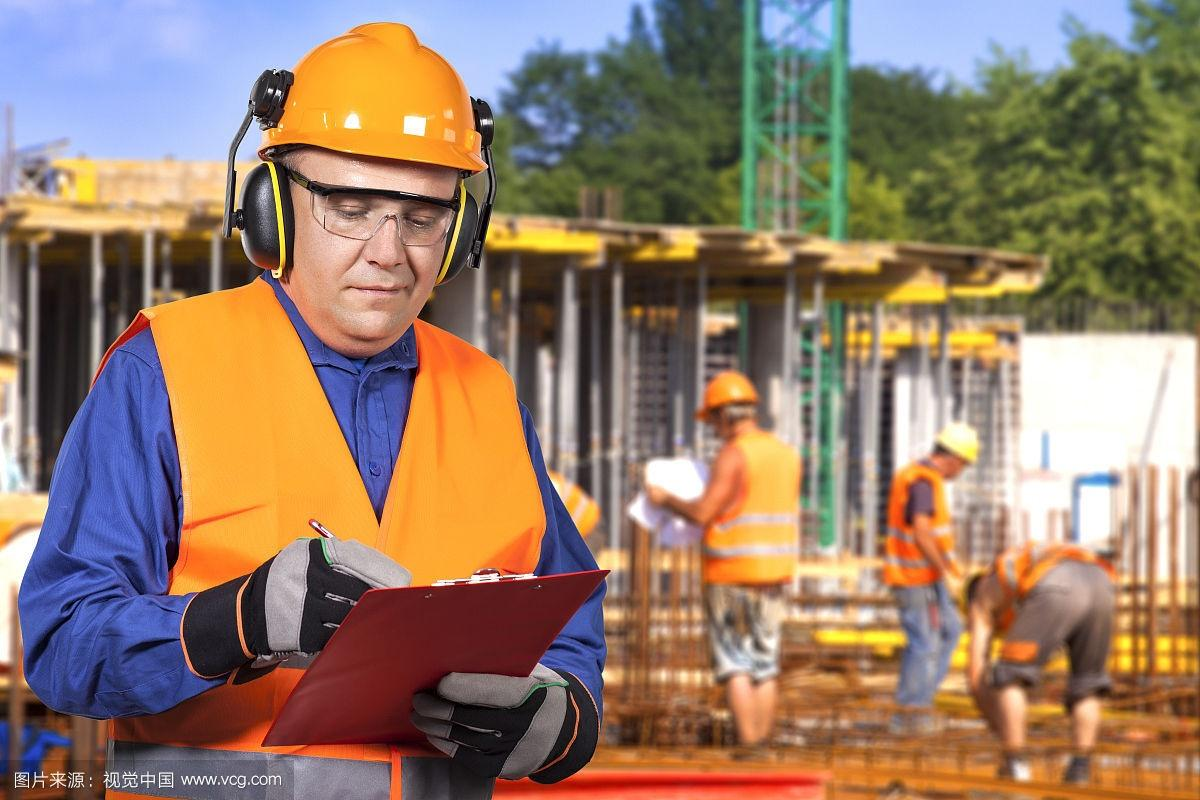Helmet: (267, 23, 480, 351)
Vest: (116, 289, 545, 784), (713, 436, 808, 587), (879, 463, 963, 588)
